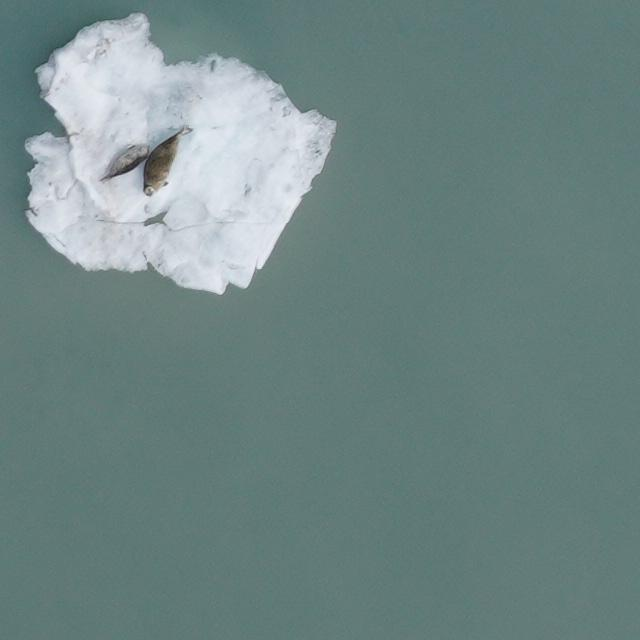seal: (135, 116, 194, 200), (96, 137, 153, 189)
